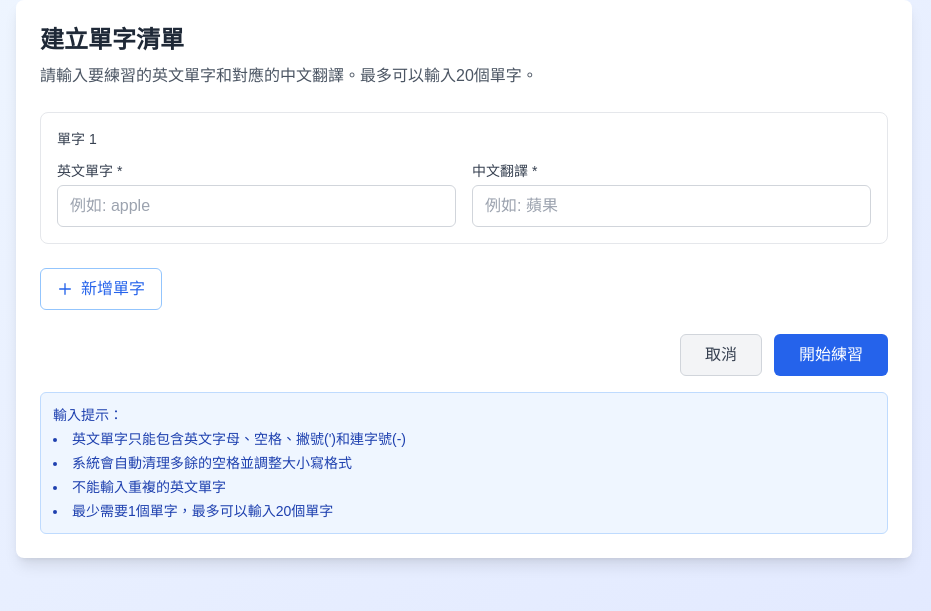
WordListInput › validates English word input in real-time
Type "123" into the field with placeholder "例如: apple" at (256, 206), box [57,185,456,227]
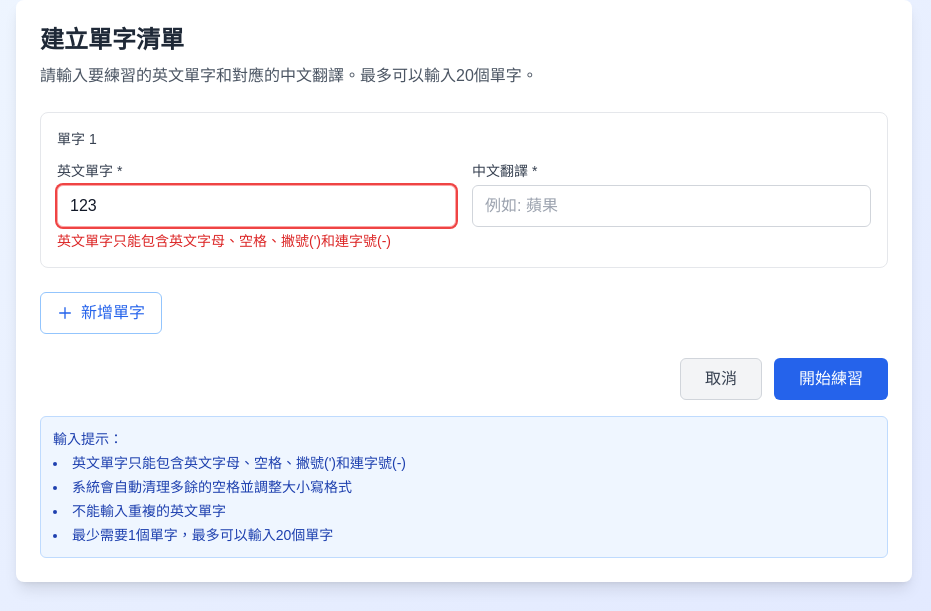
Check: the text "英文單字只能包含英文字母、空格、撇號(')和連字號(-)" is shown, box [57,233,391,249]
